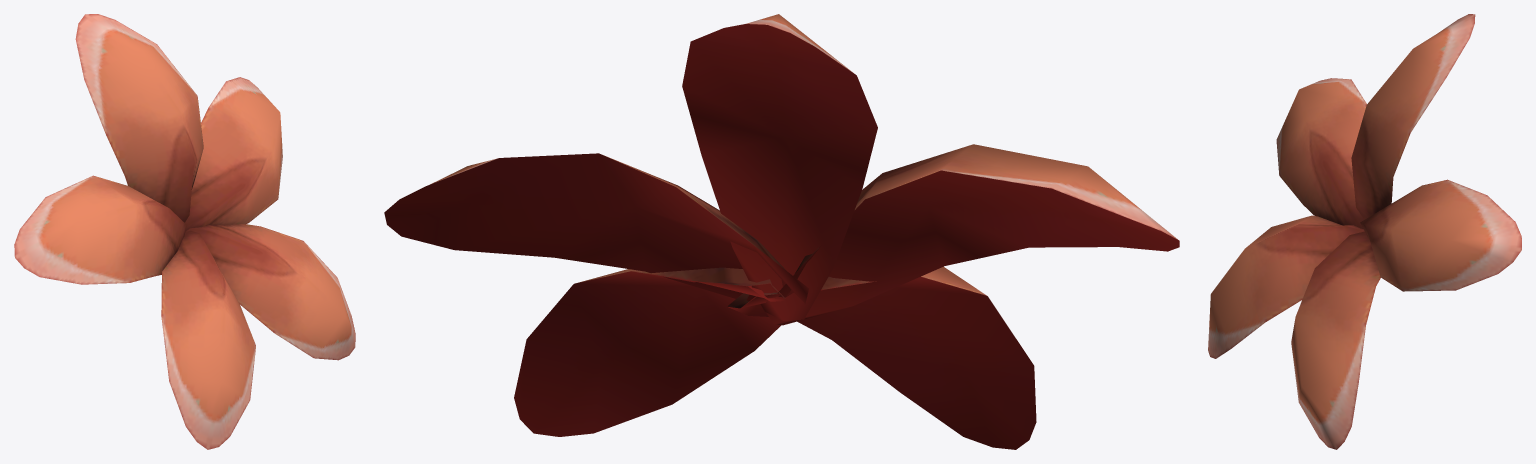
The model's file is FlowerOrange.fbx.
3 renders of one model, left to right at view 1: azimuth 30°, elevation 25°; view 2: azimuth 150°, elevation 25°; view 3: azimuth 270°, elevation 25°, orthographic. The views are drawn at different scales.
Parts seen in each view (by area): view 1: FlowerOrange; view 2: FlowerOrange; view 3: FlowerOrange.
Part boxes in pixels (x1=…): FlowerOrange: x1=14, y1=14, x2=355, y2=449; FlowerOrange: x1=384, y1=14, x2=1179, y2=449; FlowerOrange: x1=1208, y1=14, x2=1521, y2=449.
Size of the model in its own units: 53.88 by 48.48 by 40.4.
1 material, 1 textured.
